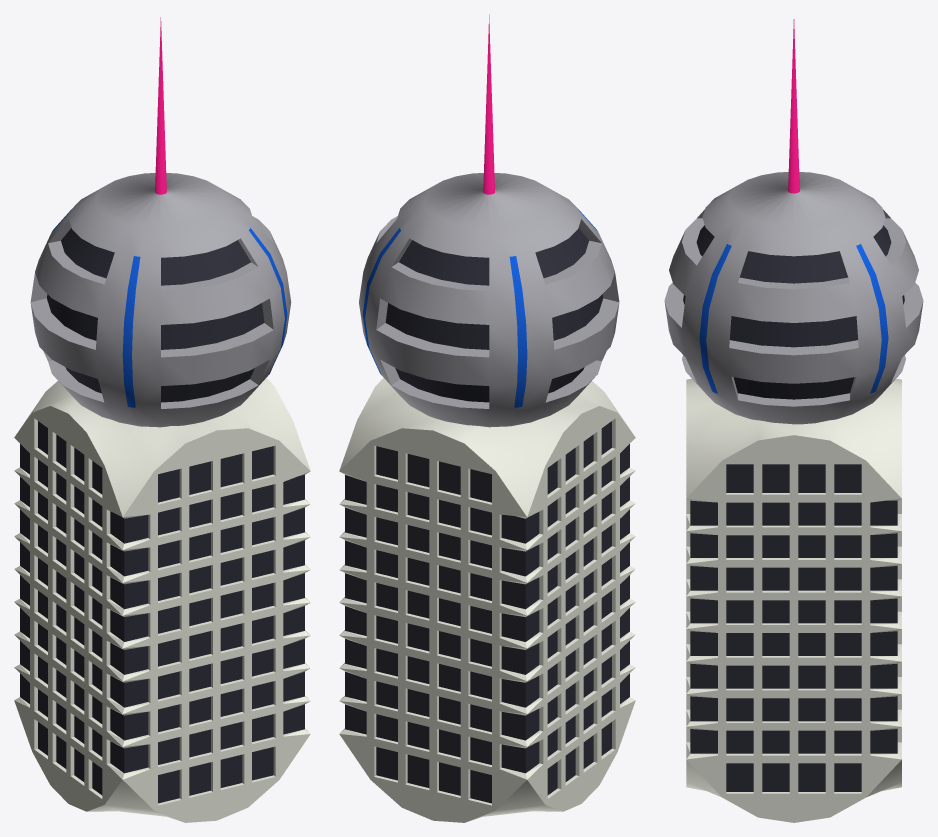
File: StepTower.FBX
The picture shows the model from 3 angles, left to right: view 1: azimuth 30°, elevation 25°; view 2: azimuth 150°, elevation 25°; view 3: azimuth 270°, elevation 25°; orthographic projection.
Visible parts, largest first — view 1: StepTower; view 2: StepTower; view 3: StepTower.
Part boxes in pixels (x1,y1,x2,y2): StepTower: [14, 17, 310, 822]; StepTower: [339, 14, 635, 822]; StepTower: [664, 19, 923, 822].
Size of the model in its own units: 60 by 195 by 60.
